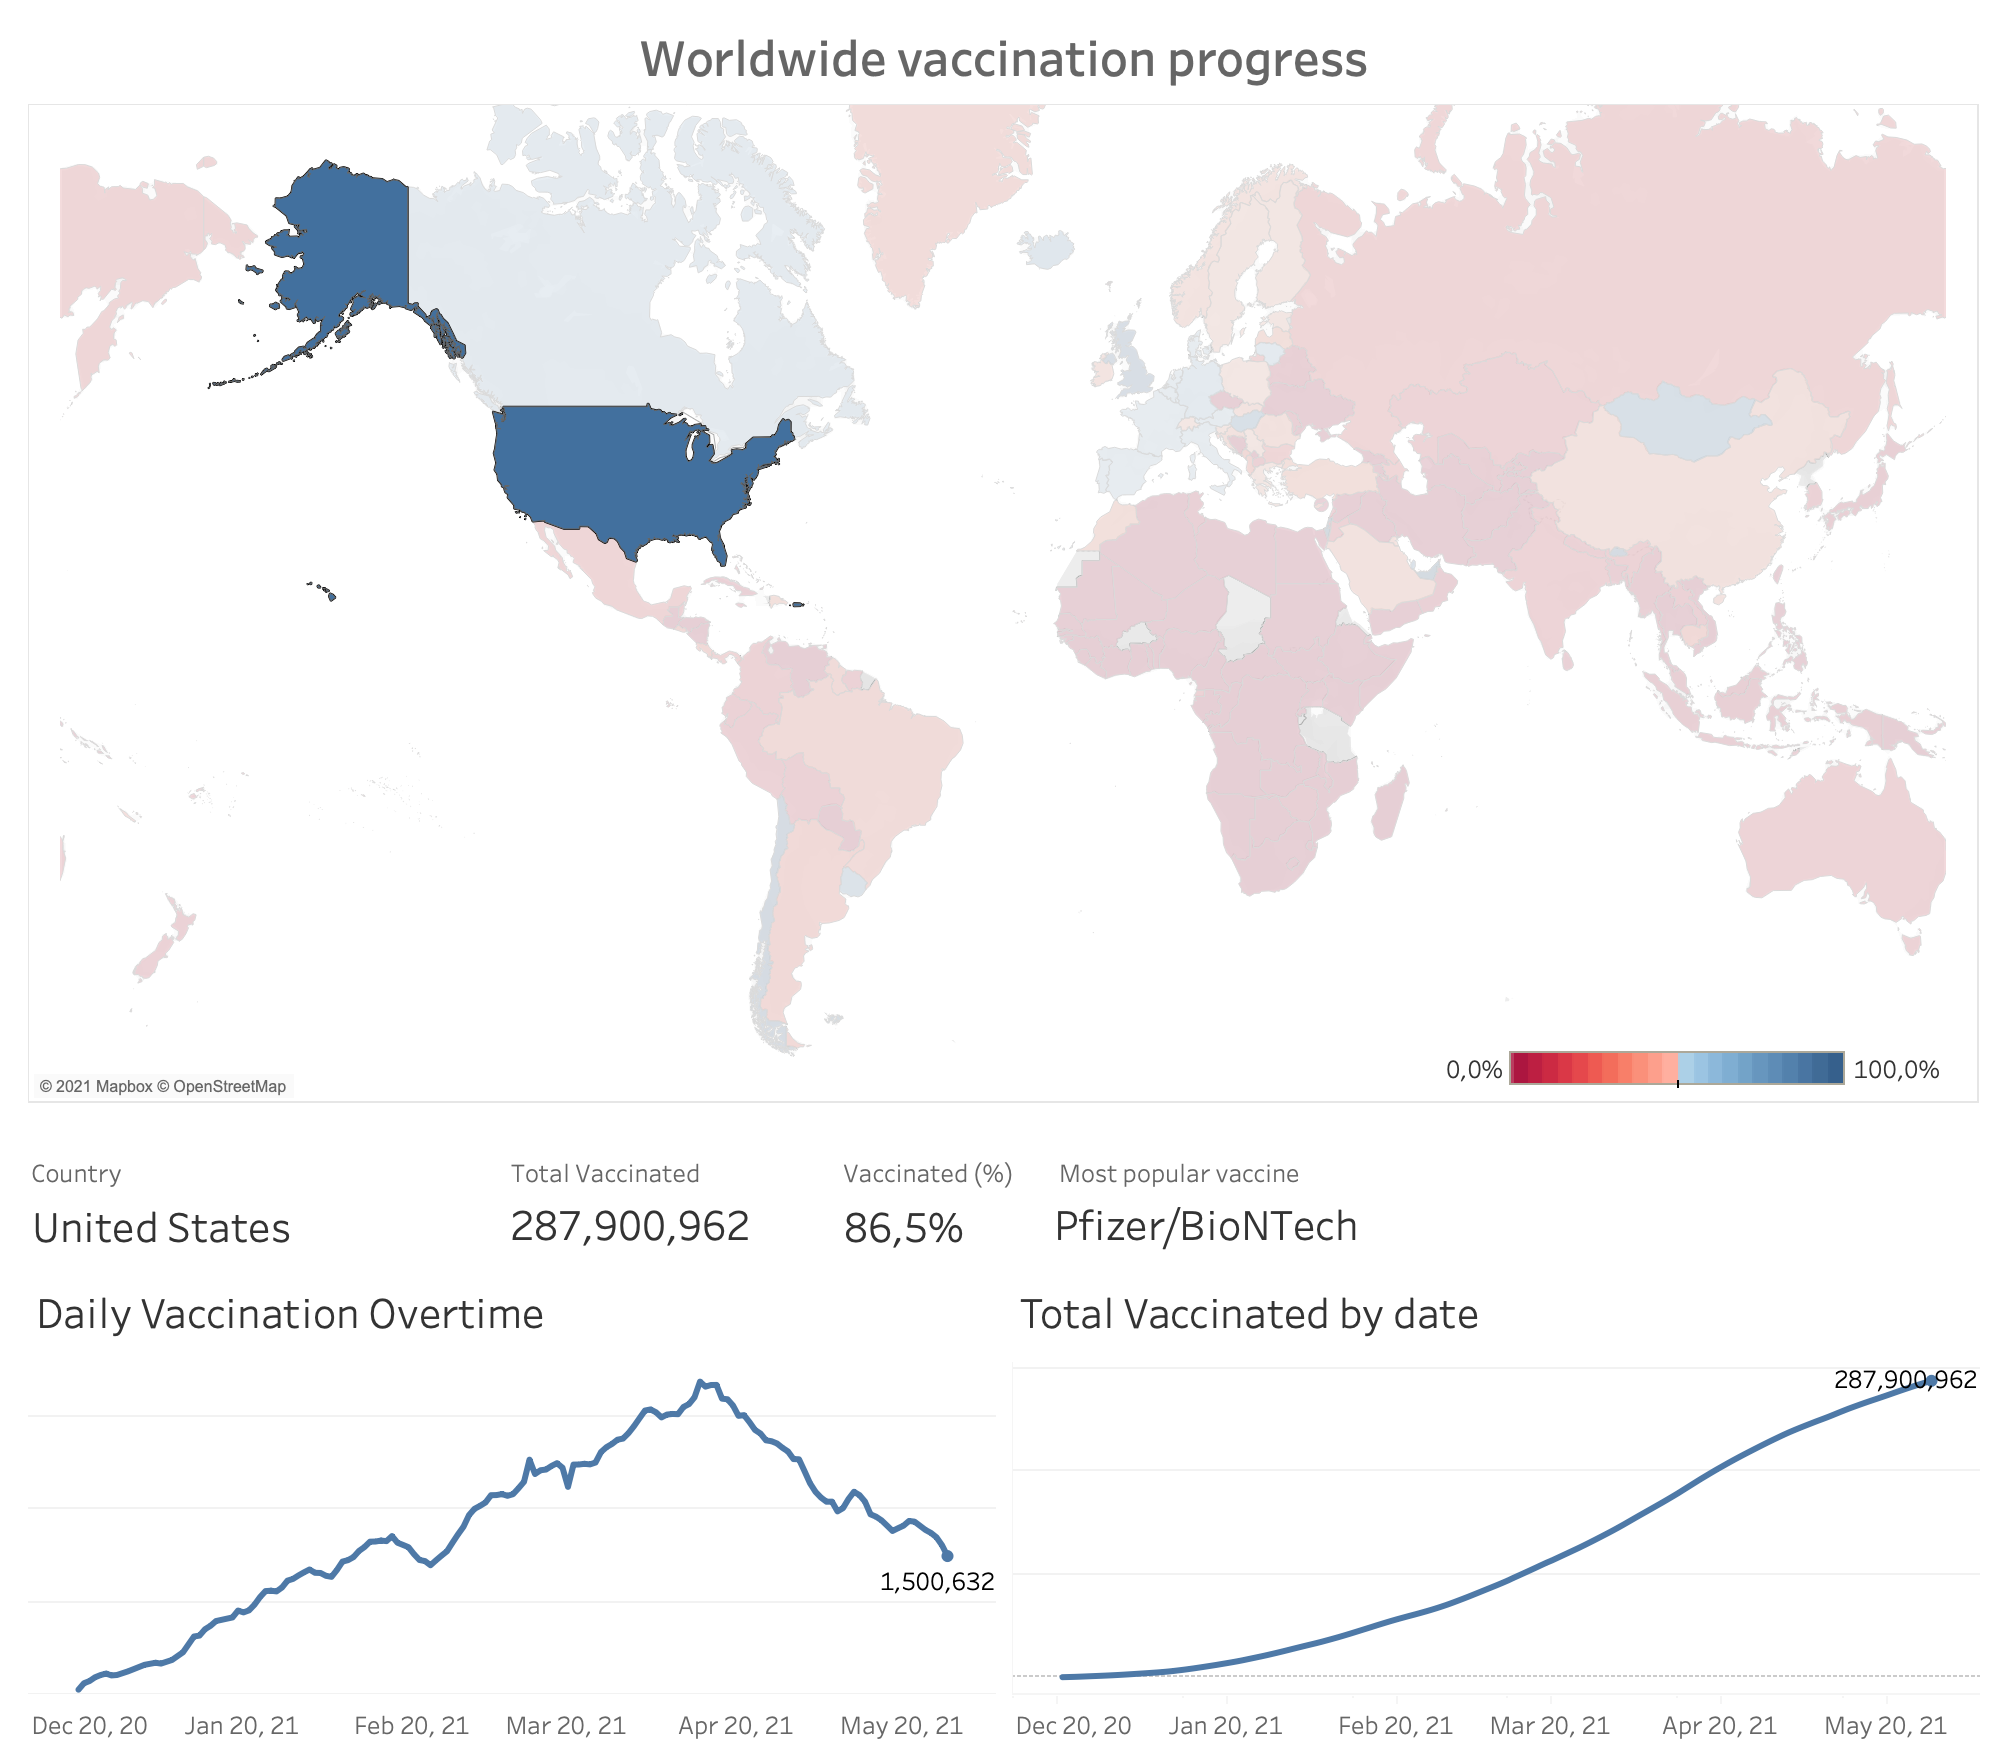

The dashboard page shown, as its layout file describes it:
{"tool":"tableau","page":{"name":"Dashboard","canvas":[1000,1200],"ordinal":0},"visuals":[{"type":"worksheet","box":[0,0,1000,1200]},{"type":"worksheet","param":"vert","box":[8,8,984,1184]},{"type":"worksheet","box":[8,8,984,1184]},{"type":"worksheet","box":[8,8,984,40]},{"type":"worksheet","param":"horz","box":[8,48,984,1144]},{"type":"worksheet","box":[8,48,984,1144]},{"type":"worksheet","param":"horz","box":[8,48,984,857.7]},{"type":"worksheet","box":[8,48,984,857.7]},{"type":"worksheet","title":"Vaccinated Percentage","mark":"Multipolygon","box":[8,48,984,508.3]},{"type":"worksheet","title":"Vaccinated Percentage","mark":"Multipolygon","param":"[federated.0qmura41yw61w914r4ky407twyag].[usr:Calculation_4743908936936497156:qk","box":[717,522,256,27]},{"type":"worksheet","box":[8,556.3,984,77.4]},{"type":"worksheet","box":[525,571,126,30]},{"type":"worksheet","box":[11,574,100,25]},{"type":"worksheet","box":[251,574,100,25]},{"type":"worksheet","box":[417,574,100,25]},{"type":"worksheet","title":"Total Vaccinated","mark":"Automatic","box":[249,599,170,39]},{"type":"worksheet","title":"Most Popular Vaccine","mark":"Automatic","box":[521,599,393,36]},{"type":"worksheet","title":"Country Name","mark":"Automatic","box":[10,600,328,41]},{"type":"worksheet","title":"(%) Vaccinated over population","mark":"Automatic","box":[416,600,96,33]},{"type":"worksheet","param":"vert","box":[8,633.7,984,272]},{"type":"worksheet","param":"horz","box":[8,633.7,984,272]},{"type":"worksheet","title":"Daily Vaccination Overtime","mark":"Line","rows":["daily_vaccinations"],"cols":["date"],"box":[8,633.7,492,272]},{"type":"worksheet","title":"Total Vaccinated by date","mark":"Automatic","rows":["daily_vaccinations"],"cols":["date"],"box":[500,633.7,492,272]},{"type":"worksheet","title":"Vaccine Used","mark":"Automatic","rows":["vaccine"],"cols":["total_vaccinations (country_vaccinations_by_manufacturer.csv"],"box":[8,905.7,984,286.3]},{"type":"worksheet","title":"Vaccine Used","mark":"Automatic","rows":["vaccine"],"cols":["total_vaccinations (country_vaccinations_by_manufacturer.csv"],"param":"[federated.0qmura41yw61w914r4ky407twyag].[none:vaccine:nk]","box":[176,925,817,26]}]}

Visuals, with their boxes on the page's 1000x1200 design canvas (x1, y1, x2, y2). These are canvas units, not pixel positions in the 2000x1740 screenshot, which may show the page scaled, cropped or inside an application window:
worksheet: box(0, 0, 1000, 1200)
worksheet: box(8, 8, 992, 1192)
worksheet: box(8, 8, 992, 1192)
worksheet: box(8, 8, 992, 48)
worksheet: box(8, 48, 992, 1192)
worksheet: box(8, 48, 992, 1192)
worksheet: box(8, 48, 992, 906)
worksheet: box(8, 48, 992, 906)
"Vaccinated Percentage" worksheet (Multipolygon marks): box(8, 48, 992, 556)
"Vaccinated Percentage" worksheet (Multipolygon marks): box(717, 522, 973, 549)
worksheet: box(8, 556, 992, 634)
worksheet: box(525, 571, 651, 601)
worksheet: box(11, 574, 111, 599)
worksheet: box(251, 574, 351, 599)
worksheet: box(417, 574, 517, 599)
"Total Vaccinated" worksheet: box(249, 599, 419, 638)
"Most Popular Vaccine" worksheet: box(521, 599, 914, 635)
"Country Name" worksheet: box(10, 600, 338, 641)
"(%) Vaccinated over population" worksheet: box(416, 600, 512, 633)
worksheet: box(8, 634, 992, 906)
worksheet: box(8, 634, 992, 906)
"Daily Vaccination Overtime" worksheet (Line marks): box(8, 634, 500, 906)
"Total Vaccinated by date" worksheet: box(500, 634, 992, 906)
"Vaccine Used" worksheet: box(8, 906, 992, 1192)
"Vaccine Used" worksheet: box(176, 925, 993, 951)
